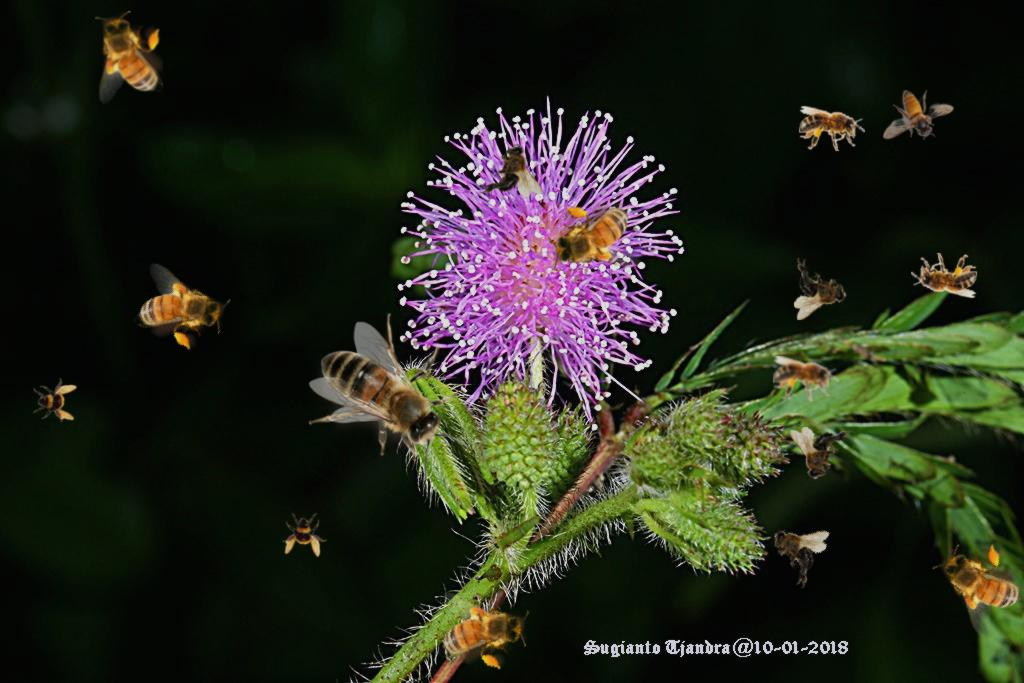Bee: (309, 313, 471, 480), (121, 257, 237, 362), (928, 527, 1024, 642), (426, 586, 536, 679), (95, 11, 163, 104), (548, 203, 641, 271), (758, 511, 833, 591), (883, 90, 954, 140), (794, 258, 847, 320), (790, 427, 852, 480), (480, 144, 542, 197), (773, 356, 839, 401), (799, 106, 865, 151), (911, 253, 977, 298), (33, 378, 77, 422), (283, 513, 327, 557)
